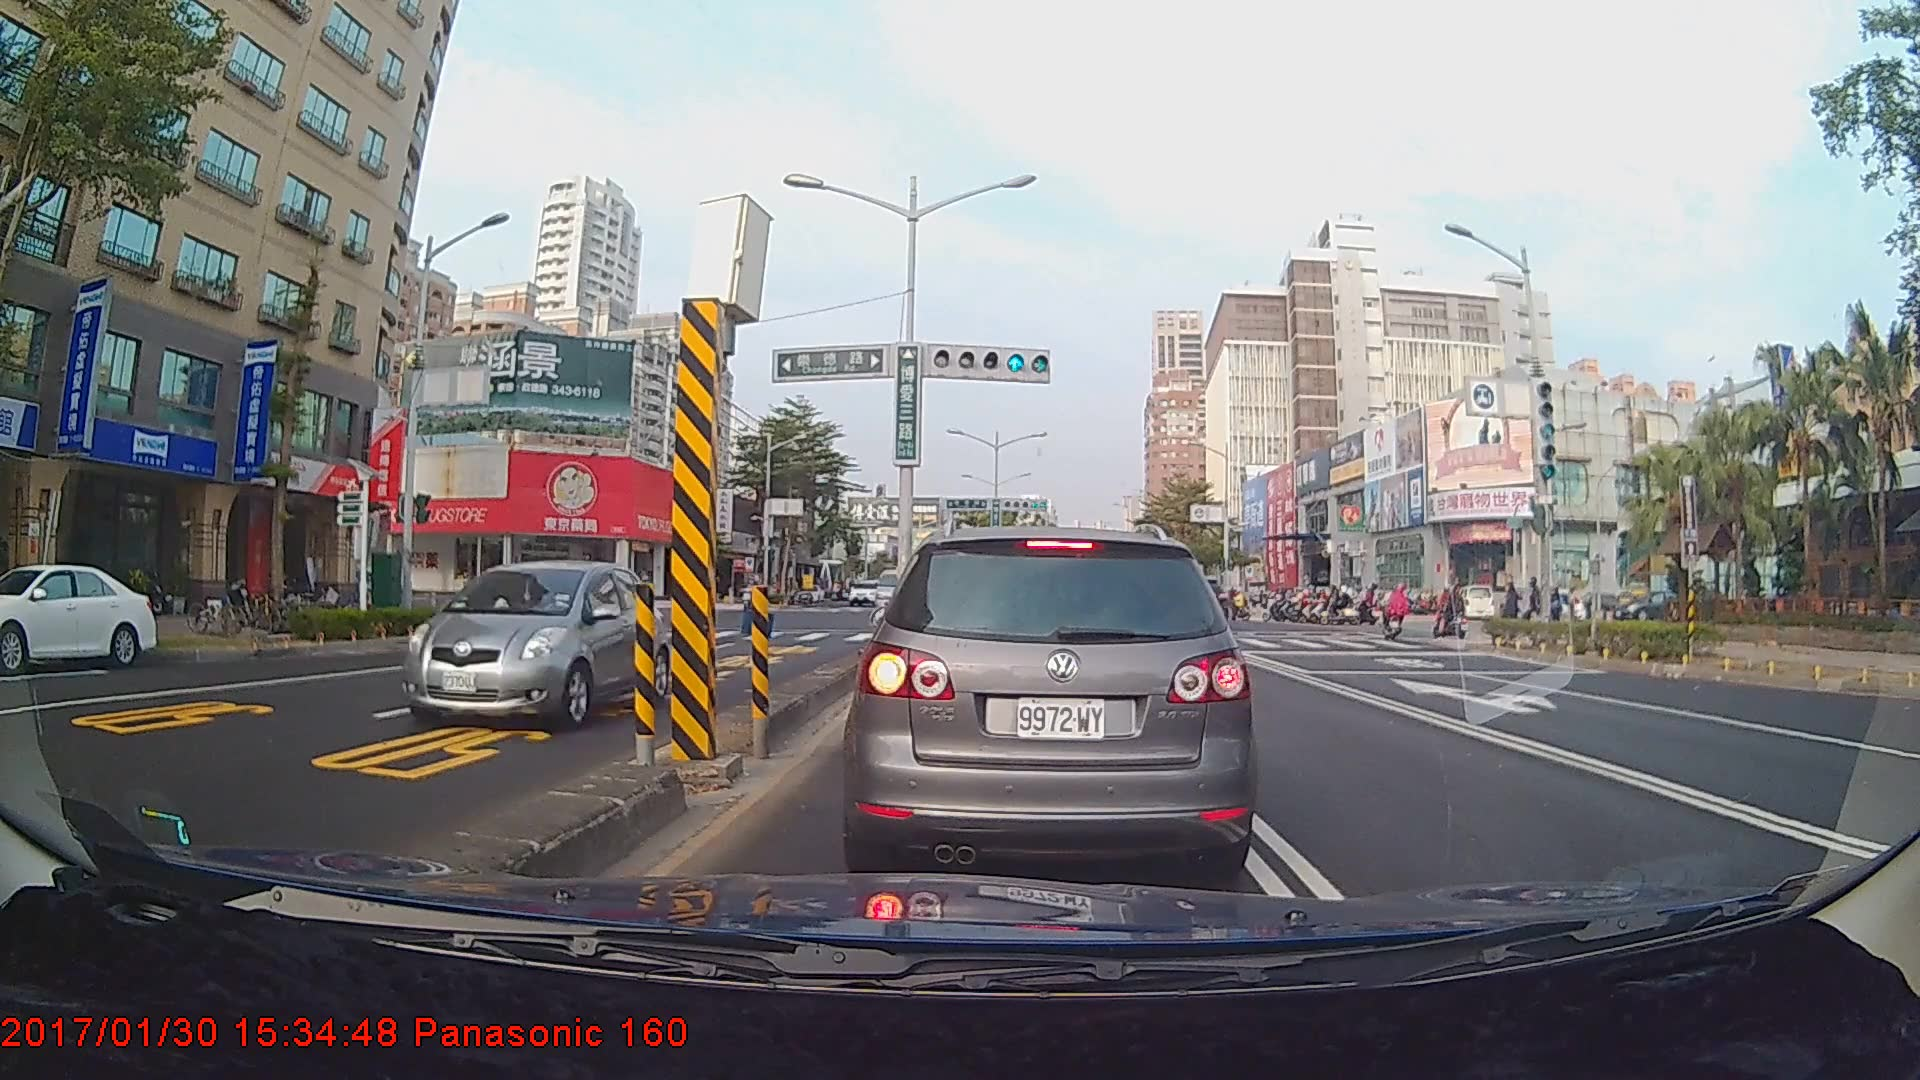pedestrian: (1498, 579, 1527, 637)
rider: (1436, 582, 1473, 646), (1382, 580, 1416, 640)
vehicle: (852, 523, 1252, 874), (397, 558, 667, 729), (0, 561, 158, 671)
